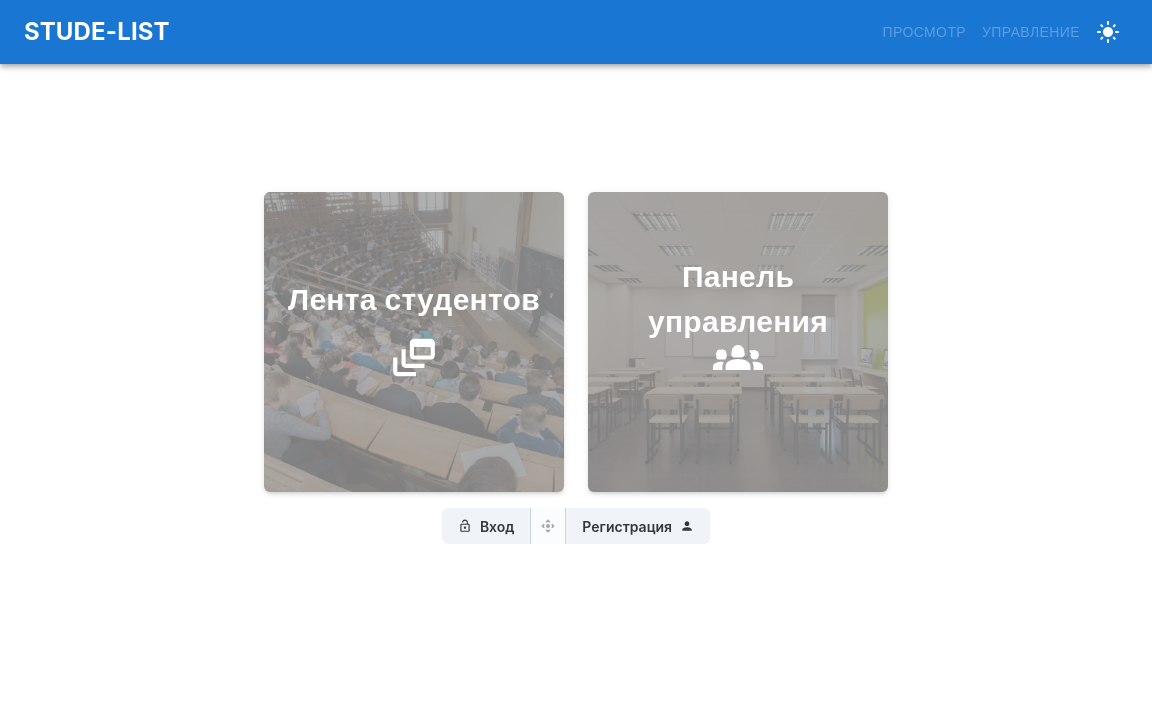
Scenario: Тестирование действий логинизации › При нажатии на крестик модалка регистрации должна закрываться
Click the button "Регистрация". click: click(638, 526)
box: [565, 508, 710, 544]
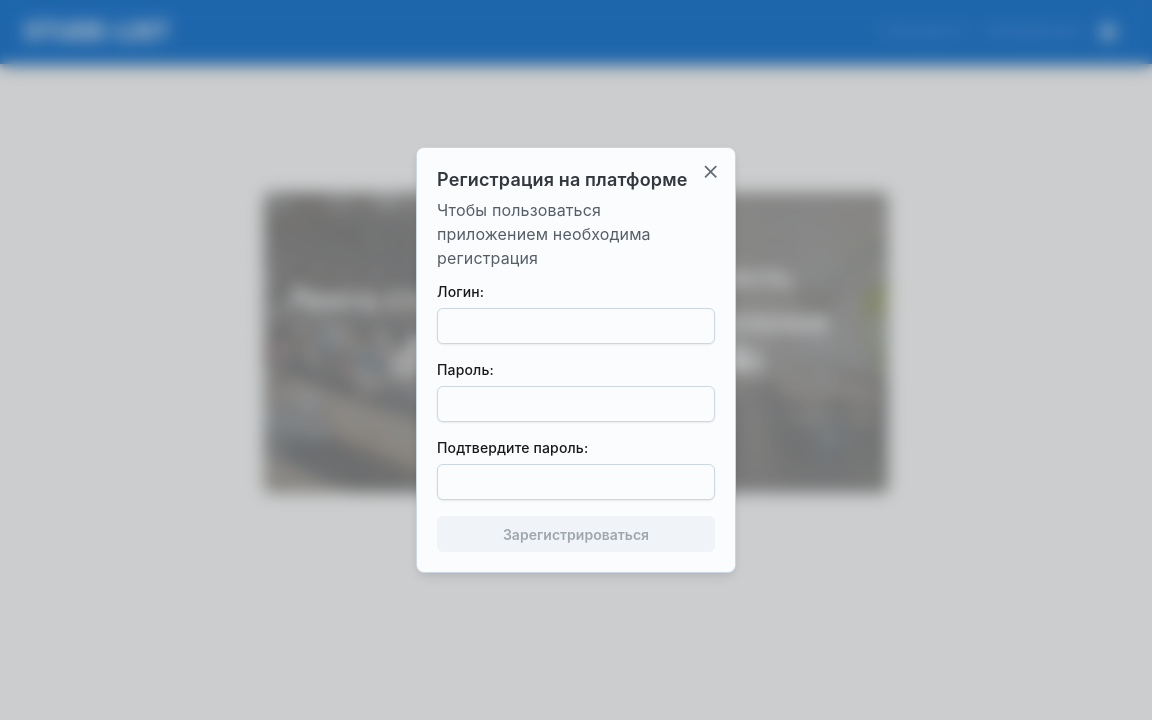
Click the button with test id "close-modal". click: click(711, 172)
box: [695, 156, 727, 188]
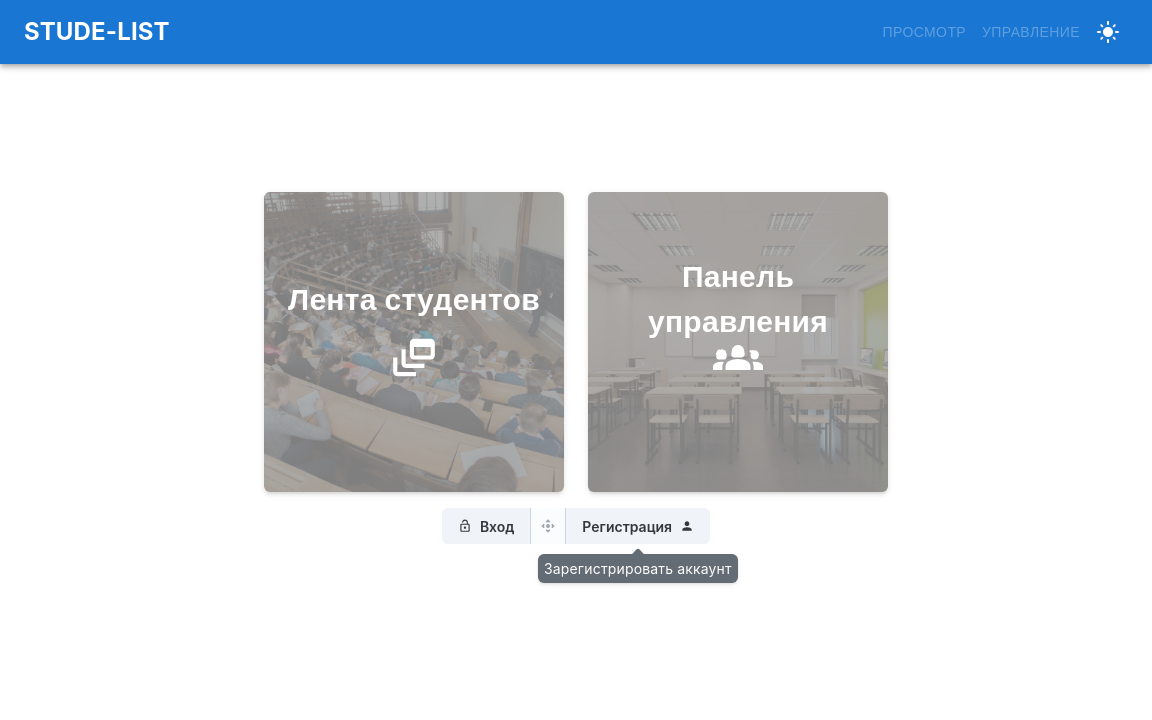
Check: the element with test id "register-modal" is gone
